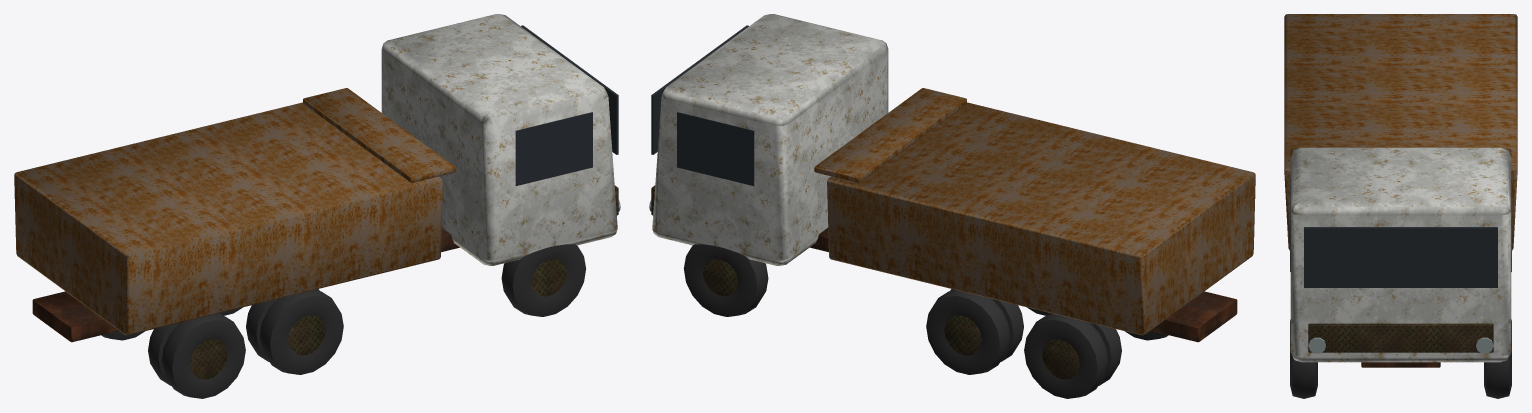
File: veh_dump.gltf
3 renders of one model, left to right at view 1: azimuth 30°, elevation 25°; view 2: azimuth 150°, elevation 25°; view 3: azimuth 270°, elevation 25°, orthographic.
Parts seen in each view (by area): view 1: box.006, box.001, box.007, torus.006, torus.002, box.003, torus, box, cyl.004, cyl.008, cyl.002, box.002 (+2 smaller); view 2: box.006, box.001, box.007, torus.008, torus.004, box.004, torus.001, box, cyl.006, cyl.010, cyl.003, box.002 (+2 smaller); view 3: box.006, box.001, box.002, box.005, torus, torus.001, box, cyl, cyl.001.
Part boxes in pixels (x1=…): box.006: x1=14, y1=102, x2=442, y2=335; box.001: x1=381, y1=14, x2=617, y2=265; box.007: x1=303, y1=88, x2=455, y2=182; torus.006: x1=161, y1=313, x2=245, y2=398; torus.002: x1=259, y1=290, x2=343, y2=374; box.003: x1=515, y1=112, x2=592, y2=185; torus: x1=501, y1=244, x2=586, y2=316; box: x1=32, y1=228, x2=459, y2=342; cyl.004: x1=288, y1=315, x2=325, y2=355; cyl.008: x1=190, y1=339, x2=227, y2=379; cyl.002: x1=532, y1=259, x2=566, y2=296; box.002: x1=521, y1=25, x2=618, y2=154; box.006: x1=827, y1=102, x2=1255, y2=335; box.001: x1=652, y1=14, x2=888, y2=265; box.007: x1=814, y1=88, x2=966, y2=182; torus.008: x1=1024, y1=313, x2=1108, y2=398; torus.004: x1=926, y1=290, x2=1010, y2=374; box.004: x1=677, y1=112, x2=754, y2=185; torus.001: x1=683, y1=244, x2=768, y2=316; box: x1=810, y1=228, x2=1237, y2=342; cyl.006: x1=944, y1=315, x2=981, y2=355; cyl.010: x1=1042, y1=339, x2=1079, y2=379; cyl.003: x1=703, y1=259, x2=737, y2=296; box.002: x1=651, y1=25, x2=748, y2=154; box.006: x1=1284, y1=14, x2=1517, y2=250; box.001: x1=1290, y1=147, x2=1511, y2=362; box.002: x1=1304, y1=227, x2=1497, y2=287; box.005: x1=1308, y1=323, x2=1493, y2=352; torus: x1=1290, y1=319, x2=1317, y2=398; torus.001: x1=1484, y1=319, x2=1511, y2=398; box: x1=1361, y1=362, x2=1440, y2=367; cyl: x1=1308, y1=337, x2=1325, y2=353; cyl.001: x1=1476, y1=337, x2=1493, y2=353.
Size of the model in its own units: 6.95 by 2.74 by 2.65.
Materials: 8 (5 with a texture image).
